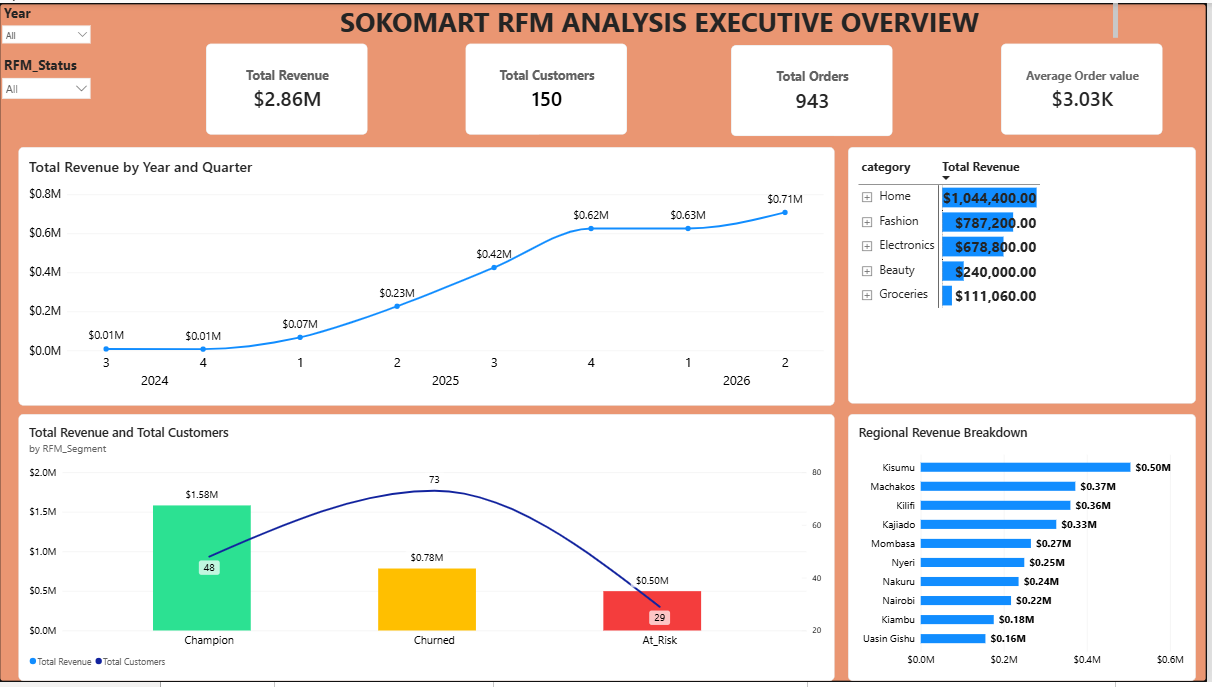

What the dashboard file says about the page in this screenshot:
{"tool":"powerbi","page":{"name":"Executive Overview","canvas":[1920,1080],"ordinal":1},"visuals":[{"type":"textbox","box":[329.3,0,1450.6,64.4],"z":0},{"type":"cardVisual","fields":{"Data":["My_Measure.Revenue"]},"box":[329.3,64.4,257.7,145.5],"z":1000},{"type":"cardVisual","fields":{"Data":["My_Measure.Average Order value"]},"box":[1593.8,64.4,257.7,145.5],"z":2000},{"type":"cardVisual","fields":{"Data":["My_Measure.Total Orders"]},"box":[1164.3,66.8,257.7,145.5],"z":3000},{"type":"cardVisual","fields":{"Data":["My_Measure.Total Customers"]},"box":[742,64.4,257.7,145.5],"z":4000},{"type":"lineClusteredColumnComboChart","fields":{"Category":["soko_mart customers.RFM_Segment"],"Y":["My_Measure.Revenue"],"Y2":["My_Measure.Total Customers"]},"box":[31,653.7,1297.9,424.7],"z":5000},{"type":"clusteredBarChart","title":"Regional Revenue Breakdown","fields":{"Category":["soko_mart customers.county"],"Y":["My_Measure.Revenue"]},"box":[1350.4,653.7,553.5,424.7],"z":6000},{"type":"lineChart","title":"Total Revenue by Year and Quarter","fields":{"Category":["Date.Year","Date.Quarter"],"Y":["My_Measure.Revenue"]},"box":[31.2,229.6,1298.3,411],"z":7000},{"type":"pivotTable","fields":{"Rows":["soko_mart products.category","soko_mart products.product_name"],"Values":["My_Measure.Revenue"]},"box":[1350.4,229,553.5,408],"z":8000},{"type":"slicer","fields":{"Values":["soko_mart customers.RFM_Segment"]},"box":[0,83.5,150.3,76.3],"z":9000},{"type":"slicer","fields":{"Values":["Date.Year"]},"box":[0,0,150.2,82.2],"z":10000}]}

Visuals, with their boxes in screenshot pixels (x1, y1, x2, y2), scaled from the page's 1920x1080 canvas onto the 1212x687 screenshot:
textbox: pyautogui.locateOnScreen(208, 0, 1124, 41)
cardVisual - My_Measure.Revenue: pyautogui.locateOnScreen(208, 41, 371, 134)
cardVisual - My_Measure.Average Order value: pyautogui.locateOnScreen(1006, 41, 1169, 134)
cardVisual - My_Measure.Total Orders: pyautogui.locateOnScreen(735, 42, 898, 135)
cardVisual - My_Measure.Total Customers: pyautogui.locateOnScreen(468, 41, 631, 134)
lineClusteredColumnComboChart - soko_mart customers.RFM_Segment x My_Measure.Revenue: pyautogui.locateOnScreen(20, 416, 839, 686)
"Regional Revenue Breakdown" clusteredBarChart: pyautogui.locateOnScreen(852, 416, 1202, 686)
"Total Revenue by Year and Quarter" lineChart: pyautogui.locateOnScreen(20, 146, 839, 407)
pivotTable - soko_mart products.category x soko_mart products.product_name: pyautogui.locateOnScreen(852, 146, 1202, 405)
slicer - soko_mart customers.RFM_Segment: pyautogui.locateOnScreen(0, 53, 95, 102)
slicer - Date.Year: pyautogui.locateOnScreen(0, 0, 95, 52)
